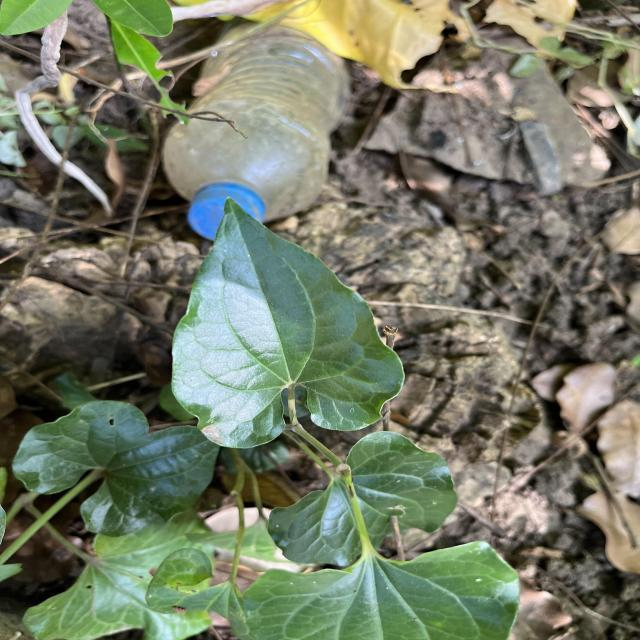Piper longum: (169, 190, 408, 452)
